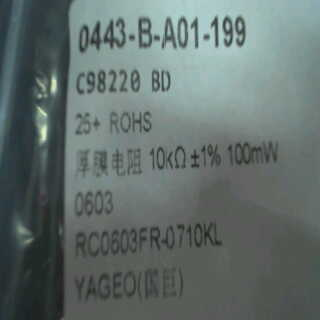10kR: (147, 142, 188, 179)
